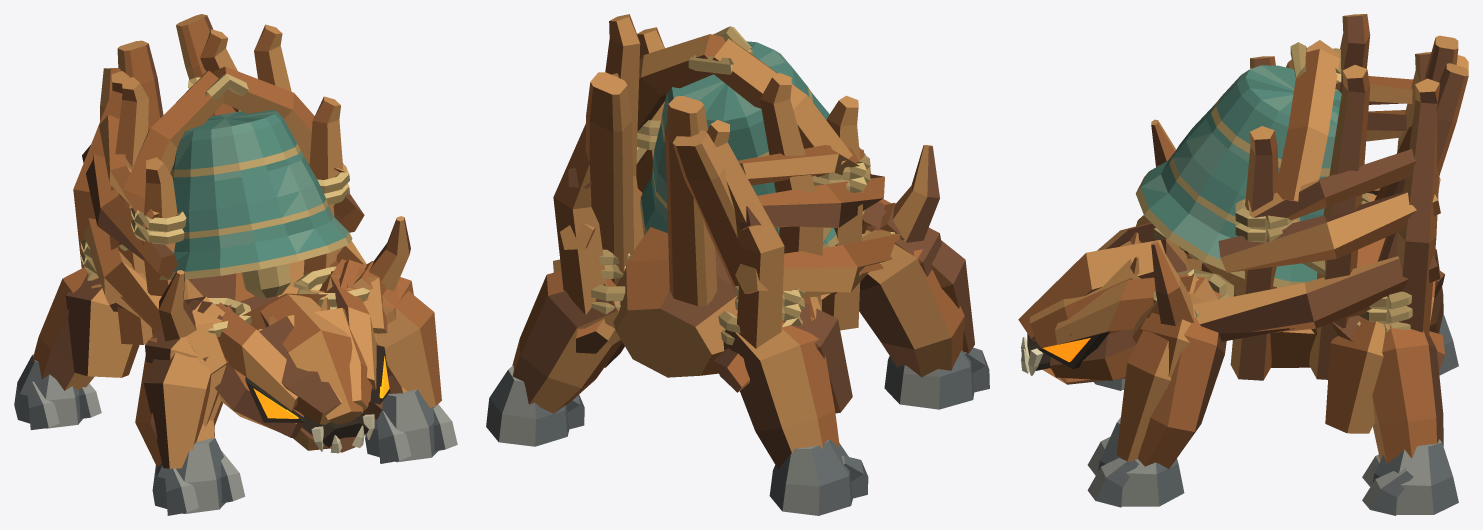
File: bellback-complete-face-character.glb
The picture shows the model from 3 angles, left to right: view 1: azimuth 30°, elevation 25°; view 2: azimuth 150°, elevation 25°; view 3: azimuth 270°, elevation 25°; orthographic projection. The views are drawn at different scales.
Parts seen in each view (by area): view 1: Hollow cast bell, Left fore outer timber shield, Pointed central face keel, Right fore outer timber shield, Solid timber cranium, Left hind shoulder cap, Arch left, Shaped orbital brow timber, Broken ship rib -1 1, Middle broken side strake -1, Lower broken side strake -1, Left hind timber leg (+40 smaller); view 2: Barrel timber hull, Left hind timber leg, Left fore timber leg, Right hind timber leg, Stern diagonal wreck plank 1, Hollow cast bell, Tall stern plank, Broken ship rib -1 2, Lower broken side strake -1, Broken ship rib 1 2, Stern diagonal wreck plank -1, Left hind stone foot (+20 smaller); view 3: Hollow cast bell, Lower broken side strake 1, Right hind timber leg, Middle broken side strake 1, Broken ship rib 1 2, Right fore timber leg, Arch right, Broken ship rib 1 1, Right hind shoulder cap, Broken ship rib 1 0, Right fore outer timber shield, Sweeping upper wreck rib 1 (+31 smaller).
Part boxes in pixels (<box>): Hollow cast bell: <box>159,110,352,279</box>; Left fore outer timber shield: <box>143,309,221,468</box>; Pointed central face keel: <box>260,294,362,424</box>; Right fore outer timber shield: <box>352,261,441,407</box>; Solid timber cranium: <box>227,286,375,424</box>; Left hind shoulder cap: <box>65,273,139,377</box>; Arch left: <box>123,71,224,197</box>; Shaped orbital brow timber: <box>217,302,298,410</box>; Broken ship rib -1 1: <box>109,77,152,344</box>; Middle broken side strake -1: <box>82,145,177,278</box>; Lower broken side strake -1: <box>83,218,162,330</box>; Left hind timber leg: <box>32,267,94,390</box>; Barrel timber hull: <box>613,227,836,377</box>; Left hind timber leg: <box>723,321,839,469</box>; Left fore timber leg: <box>859,230,964,377</box>; Right hind timber leg: <box>512,270,622,413</box>; Stern diagonal wreck plank 1: <box>585,72,634,285</box>; Hollow cast bell: <box>640,41,871,247</box>; Tall stern plank: <box>665,96,717,306</box>; Broken ship rib -1 2: <box>707,120,784,348</box>; Lower broken side strake -1: <box>735,229,901,293</box>; Broken ship rib 1 2: <box>553,73,619,314</box>; Stern diagonal wreck plank -1: <box>672,130,741,296</box>; Left hind stone foot: <box>769,439,852,515</box>; Hollow cast bell: <box>1135,65,1341,287</box>; Lower broken side strake 1: <box>1193,255,1440,333</box>; Right hind timber leg: <box>1372,323,1443,463</box>; Middle broken side strake 1: <box>1218,191,1440,272</box>; Broken ship rib 1 2: <box>1397,78,1440,335</box>; Right fore timber leg: <box>1137,291,1226,468</box>; Arch right: <box>1275,49,1339,201</box>; Broken ship rib 1 1: <box>1309,65,1370,379</box>; Right hind shoulder cap: <box>1325,317,1385,433</box>; Broken ship rib 1 0: <box>1230,126,1278,380</box>; Right fore outer timber shield: <box>1116,292,1203,461</box>; Sweeping upper wreck rib 1: <box>1248,149,1417,220</box>.
Bounding box in the file's own units: 3.43 × 3.72 × 3.79.
